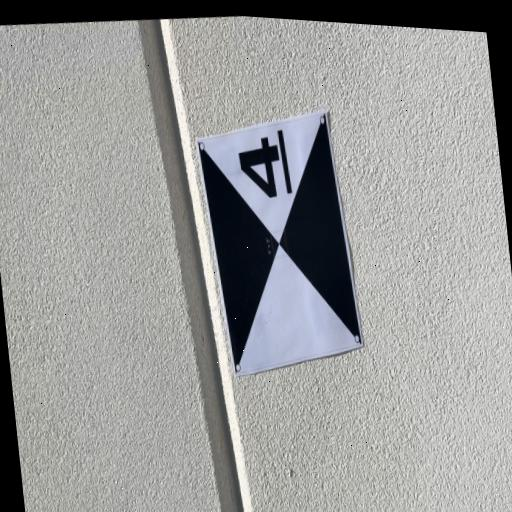target4: (199, 109, 363, 377)
